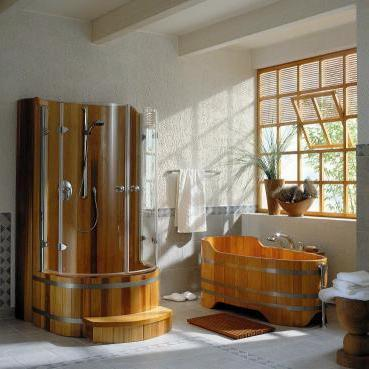Ducha: (25, 104, 158, 335)
